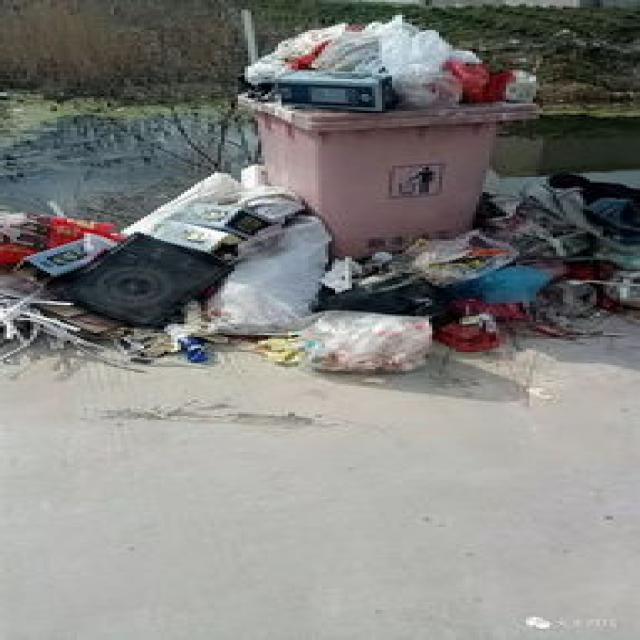garbage: (0, 162, 637, 373)
overflow: (231, 13, 540, 256)
